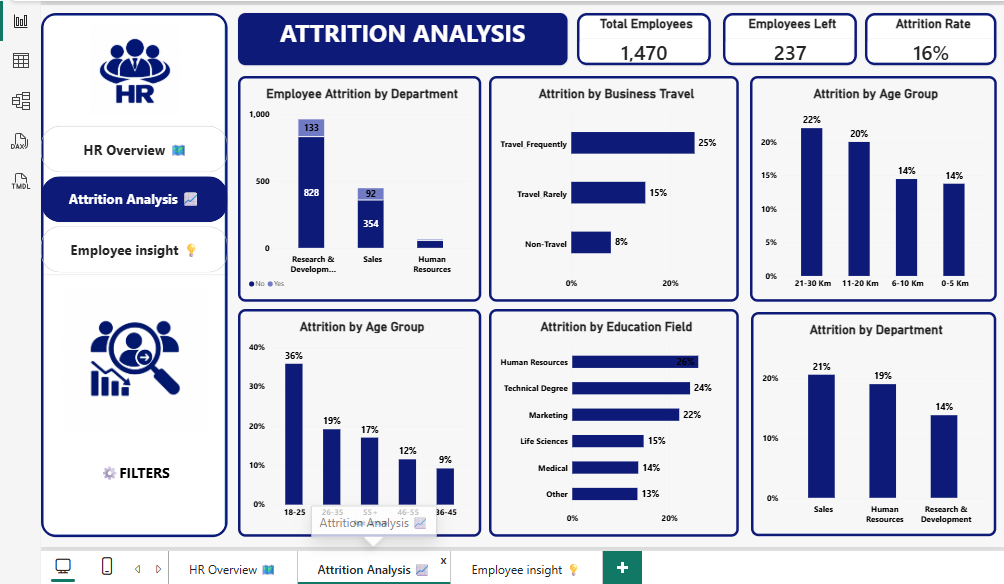

Layout of this report page (visuals, bound fields, positions):
{"tool":"powerbi","page":{"name":"Attrition Analysis 📈","canvas":[1920,1080],"ordinal":1},"visuals":[{"type":"group","id":"g1","title":"Group 1","box":[0,15.4,372.5,1044.7],"z":0,"group":"g4"},{"type":"group","id":"g2","title":"Group 3","box":[0,15.4,372.5,1044.7],"z":0,"group":"g3"},{"type":"group","id":"g3","title":"Group 2","box":[0,15.4,372.5,1044.7],"z":0,"group":"g1"},{"type":"group","id":"g4","title":"Group 5","box":[0,15.4,372.5,1044.7],"z":0,"group":"g6"},{"type":"shape","box":[0,15.4,372.5,1044.7],"z":0,"group":"g2"},{"type":"cardVisual","title":"Total Employees","fields":{"Data":["hr_db hr_clean.Total Employees"]},"box":[1069,15.4,266.7,103.6],"z":0},{"type":"cardVisual","title":"Employees Left","fields":{"Data":["hr_db hr_clean.Employees Left"]},"box":[1359.9,15.4,266.7,103.6],"z":1000},{"type":"image","box":[22.8,39.4,330.7,179],"z":1000,"group":"g4"},{"type":"pageNavigator","box":[0,241.1,372.5,294.6],"z":1000,"group":"g2"},{"type":"cardVisual","title":"Attrition Rate","fields":{"Data":["hr_db hr_clean.Attrition Rate"]},"box":[1642,15.4,262.3,103.6],"z":2000},{"type":"image","box":[22,561.1,330.6,290.1],"z":2000,"group":"g4"},{"type":"columnChart","title":"Attrition by Age Group","fields":{"Category":["hr_db hr_clean.Age_group"],"Y":["hr_db hr_clean.Attrition Rate"]},"box":[392.3,606.1,484.9,454],"z":3000},{"type":"columnChart","title":"Attrition by Department","fields":{"Category":["hr_db hr_clean.Department"],"Y":["hr_db hr_clean.Attrition Rate"]},"box":[1415,612.7,489.3,447.4],"z":4000},{"type":"barChart","title":"Attrition by Business Travel","fields":{"Category":["hr_db hr_clean.Business_Travel"],"Y":["hr_db hr_clean.Attrition Rate"]},"box":[892.7,141.1,498.1,449.6],"z":5000},{"type":"barChart","title":"Attrition by Education Field","fields":{"Category":["hr_db hr_clean.Education_Field"],"Y":["hr_db hr_clean.Attrition Rate"]},"box":[892.7,606.1,498.1,454],"z":6000},{"type":"columnChart","title":"Attrition by Age Group","fields":{"Category":["hr_db hr_clean.Distance Group"],"Y":["hr_db hr_clean.Attrition Rate"]},"box":[1412.8,141.1,491.5,449.6],"z":7000},{"type":"columnChart","title":"Employee Attrition by  Department","fields":{"Category":["hr_db hr_clean.Department"],"Series":["hr_db hr_clean.Attrition"],"Y":["hr_db hr_clean.Total Employees"]},"box":[392.3,141.1,484.9,449.6],"z":8000},{"type":"textbox","box":[392.3,15.4,656.8,103.6],"z":9000},{"type":"group","id":"g5","title":"Group 4","box":[0,15.4,372.5,1044.7],"z":10000},{"type":"group","id":"g6","title":"Navigation","box":[0,15.4,372.5,1044.7],"z":10000,"group":"g5"},{"type":"actionButton","title":"Open Filter","box":[22,869.8,330.6,122.4],"z":11000,"group":"g5"}]}

Visuals, with their boxes in screenshot pixels (x1, y1, x2, y2):
"Group 1" group: select_region(39, 10, 225, 530)
"Group 3" group: select_region(39, 10, 225, 530)
"Group 2" group: select_region(39, 10, 225, 530)
"Group 5" group: select_region(39, 10, 225, 530)
shape: select_region(39, 10, 225, 530)
"Total Employees" cardVisual: select_region(571, 10, 704, 62)
"Employees Left" cardVisual: select_region(716, 10, 848, 62)
image: select_region(51, 22, 215, 111)
pageNavigator: select_region(39, 123, 225, 269)
"Attrition Rate" cardVisual: select_region(856, 10, 986, 62)
image: select_region(50, 282, 215, 426)
"Attrition by Age Group" columnChart: select_region(234, 304, 476, 530)
"Attrition by Department" columnChart: select_region(743, 307, 986, 530)
"Attrition by Business Travel" barChart: select_region(483, 73, 731, 296)
"Attrition by Education Field" barChart: select_region(483, 304, 731, 530)
"Attrition by Age Group" columnChart: select_region(742, 73, 986, 296)
"Employee Attrition by  Department" columnChart: select_region(234, 73, 476, 296)
textbox: select_region(234, 10, 561, 62)
"Group 4" group: select_region(39, 10, 225, 530)
"Navigation" group: select_region(39, 10, 225, 530)
"Open Filter" actionButton: select_region(50, 435, 215, 496)
